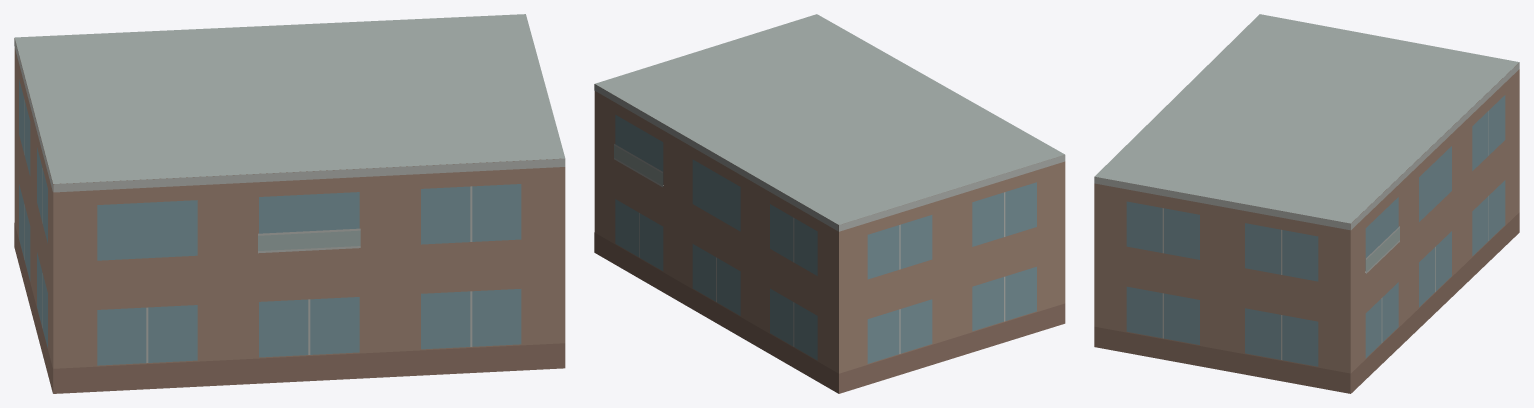
The model's file is survey-upis-32932716.glb.
3 views of the same model, side by side, from view 1: azimuth 30°, elevation 25°; view 2: azimuth 150°, elevation 25°; view 3: azimuth 270°, elevation 25° (orthographic). The views are drawn at different scales.
Parts seen in each view (by area): view 1: survey-upis-32932716.tmp; view 2: survey-upis-32932716.tmp; view 3: survey-upis-32932716.tmp.
Part boxes in pixels (x1=…): survey-upis-32932716.tmp: x1=14, y1=14, x2=565, y2=393; survey-upis-32932716.tmp: x1=594, y1=14, x2=1065, y2=393; survey-upis-32932716.tmp: x1=1094, y1=14, x2=1519, y2=393.
Size of the model in its own units: 16.1 by 6.1 by 13.81.
